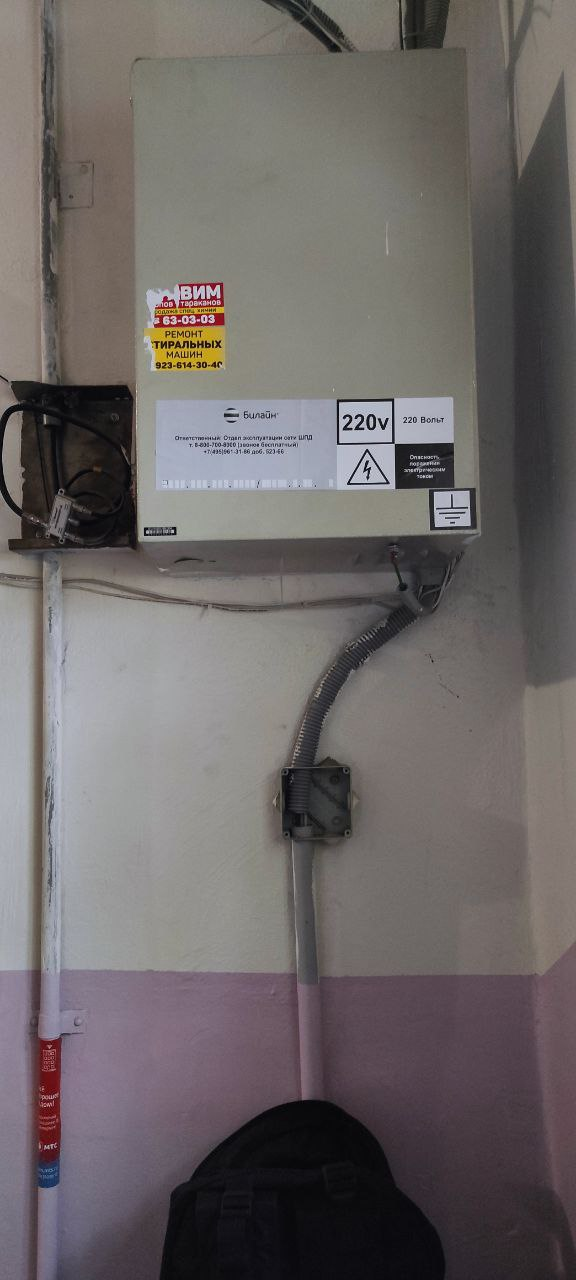sv-5: (117, 38, 492, 583)
